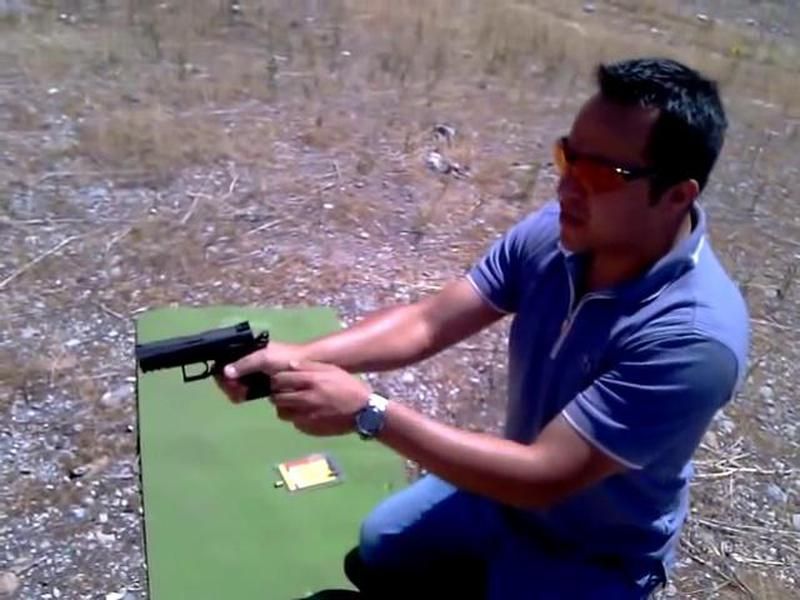Pistola: (114, 312, 289, 403)
